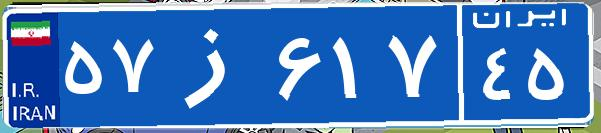1: (330, 28, 385, 110)
4: (475, 38, 525, 113)
5: (57, 26, 110, 107), (525, 38, 570, 115)
6: (273, 28, 330, 110)
7: (385, 28, 445, 110), (110, 28, 158, 105)
ز: (158, 15, 273, 115)
